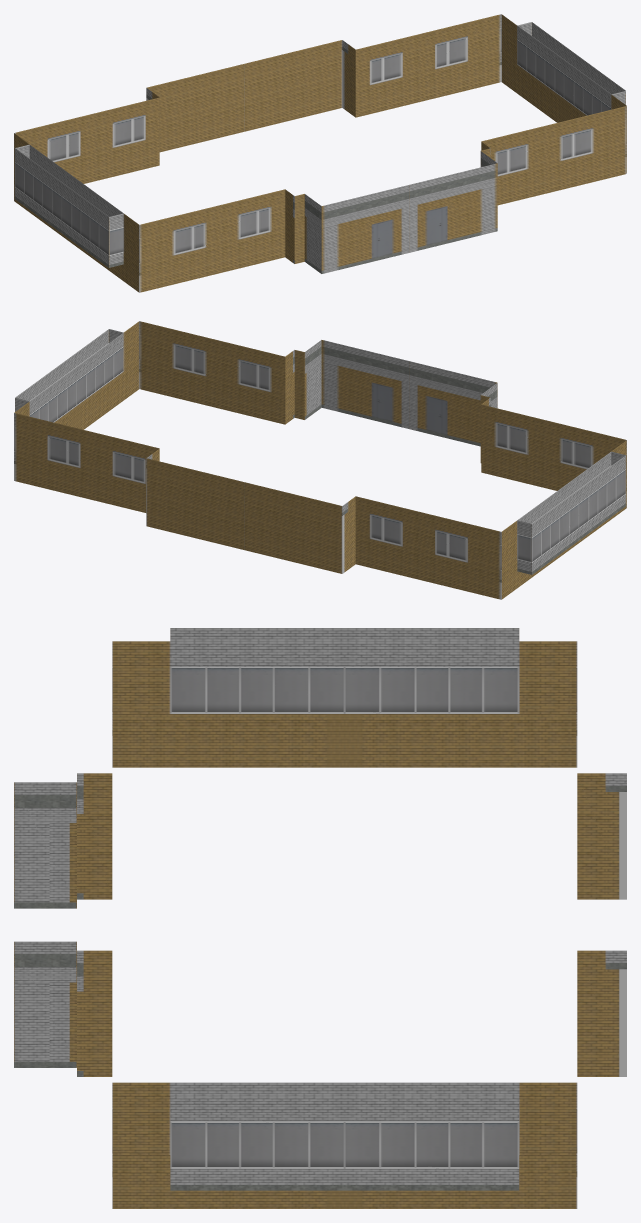
File: building_lod_0.fbx
3 renders of one model, top to bottom at view 1: azimuth 30°, elevation 25°; view 2: azimuth 150°, elevation 25°; view 3: azimuth 270°, elevation 25°, orthographic. The views are drawn at different scales.
Parts seen in each view (by area): view 1: building_lod_0; view 2: building_lod_0; view 3: building_lod_0.
Part boxes in pixels (left/top/right/bottom): building_lod_0: left=14, top=14, right=626, bottom=292; building_lod_0: left=14, top=321, right=626, bottom=599; building_lod_0: left=14, top=628, right=626, bottom=1208.
Size of the model in its own units: 3180 by 400 by 1760.
